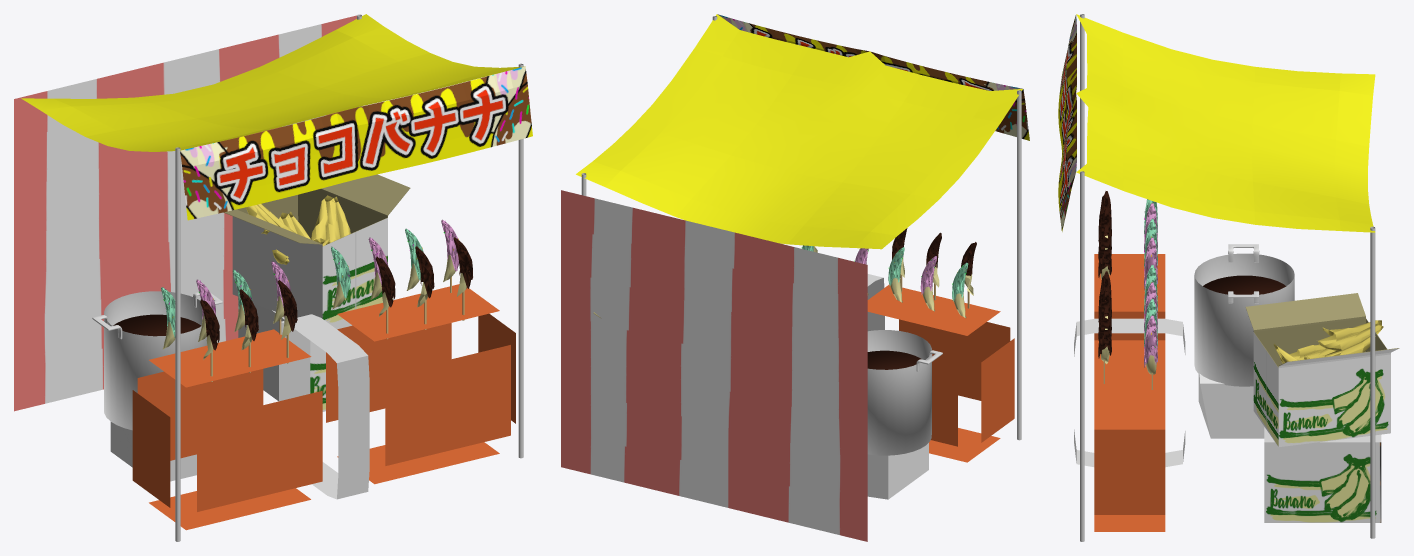
File: japanese_chocolate_banana_stall.glb
3 views of the same model, side by side, from view 1: azimuth 30°, elevation 25°; view 2: azimuth 150°, elevation 25°; view 3: azimuth 270°, elevation 25° (orthographic). The views are drawn at different scales.
Size of the model in its own units: 2.03 by 2.21 by 1.82.
23 materials, 6 textured.
